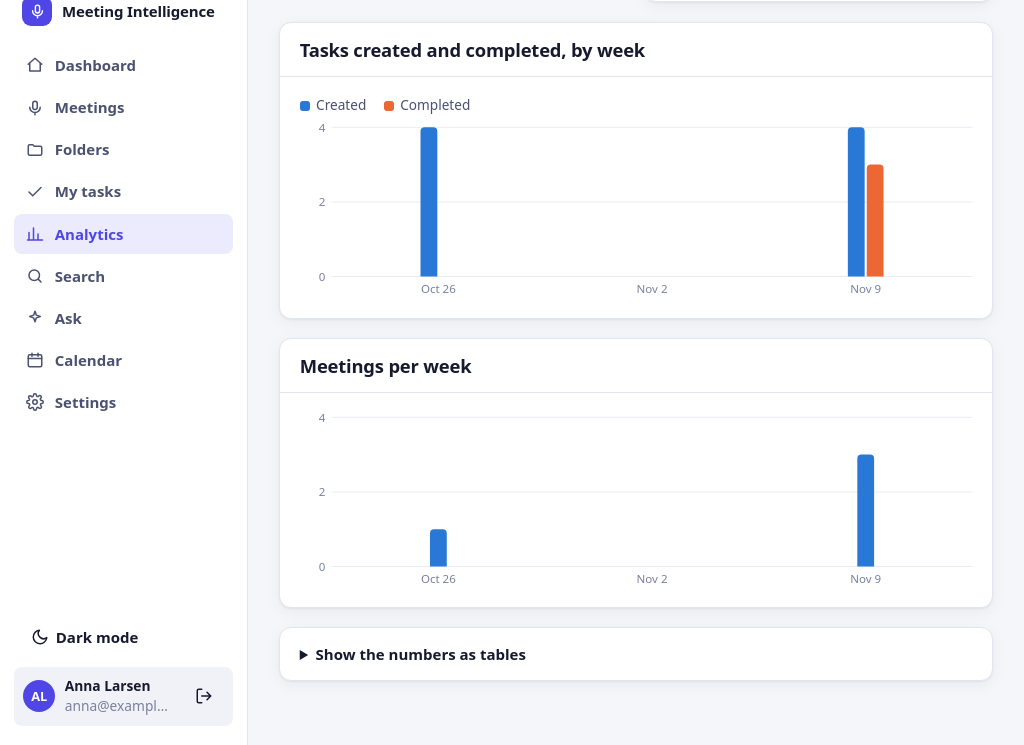
Test: the Analytics page › offers the same numbers as tables
(page scrolled)
Click the heading "Show the numbers as tables".
click(421, 654)  # box 316,644 -> 526,664
(page scrolled)
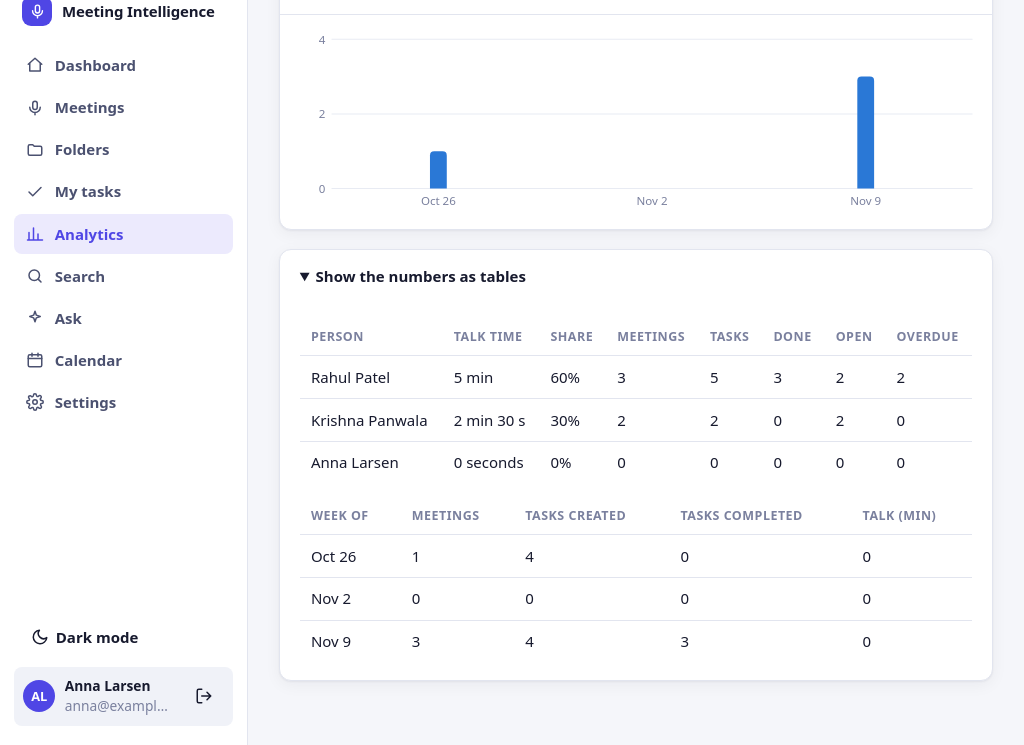
Check: the row "Rahul Patel 5 min 60% 3 5 3 2 2" is shown, box 300,356 -> 972,399
